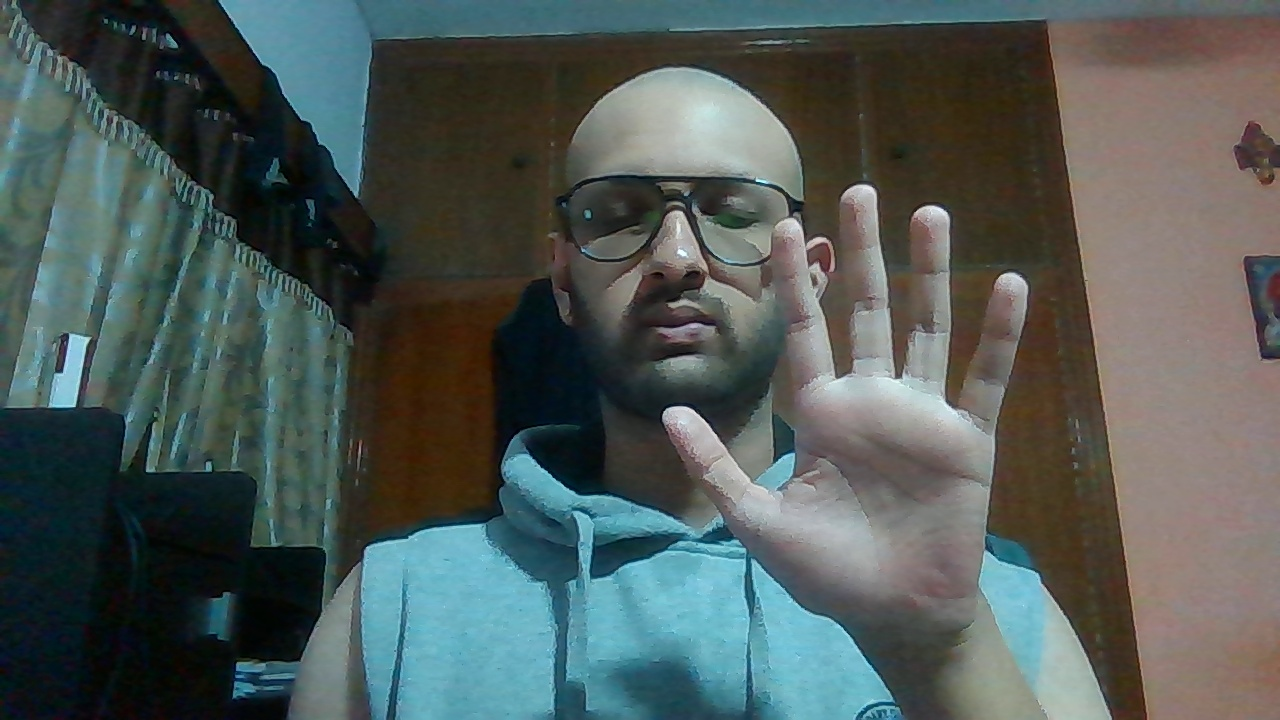Hello: (655, 182, 1035, 650)
